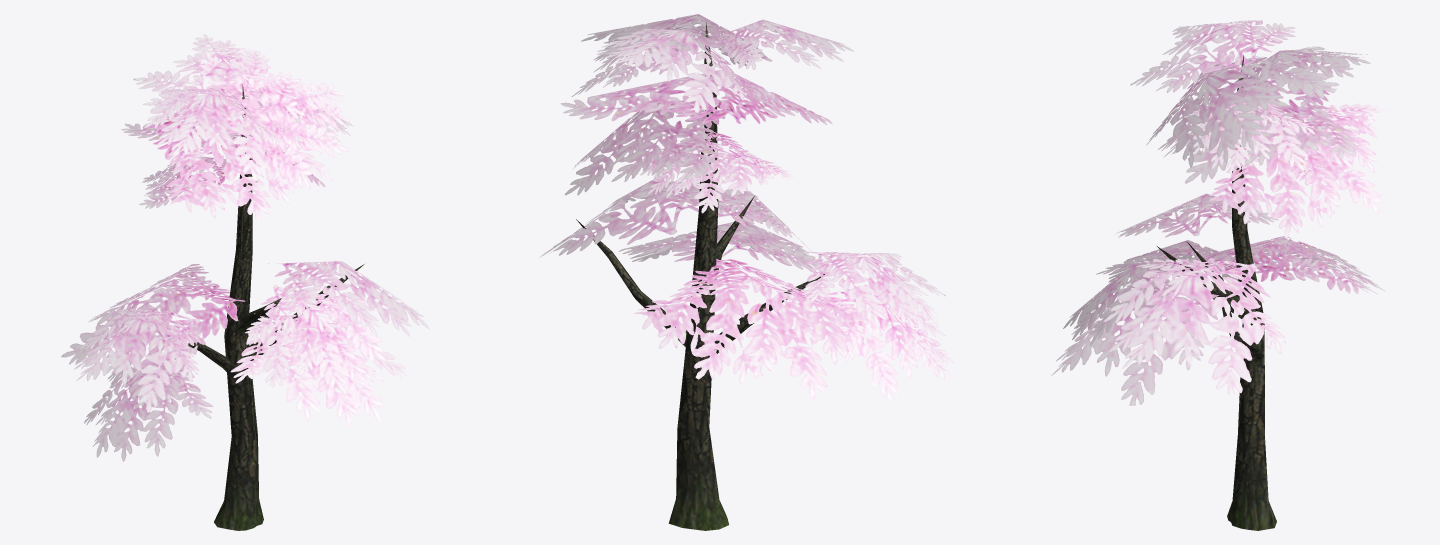
The model's file is c5_tree_1.FBX.
3 views of the same model, side by side, from view 1: azimuth 30°, elevation 25°; view 2: azimuth 150°, elevation 25°; view 3: azimuth 270°, elevation 25° (orthographic). The views are drawn at different scales.
Parts seen in each view (by area): view 1: c5_tree_1; view 2: c5_tree_1; view 3: c5_tree_1.
Part boxes in pixels (box(x1,y1,x2,y2)): c5_tree_1: box(61, 34, 429, 530); c5_tree_1: box(539, 14, 954, 530); c5_tree_1: box(1051, 20, 1388, 530).
Bounding box in the file's own units: 247 × 274 × 212.
